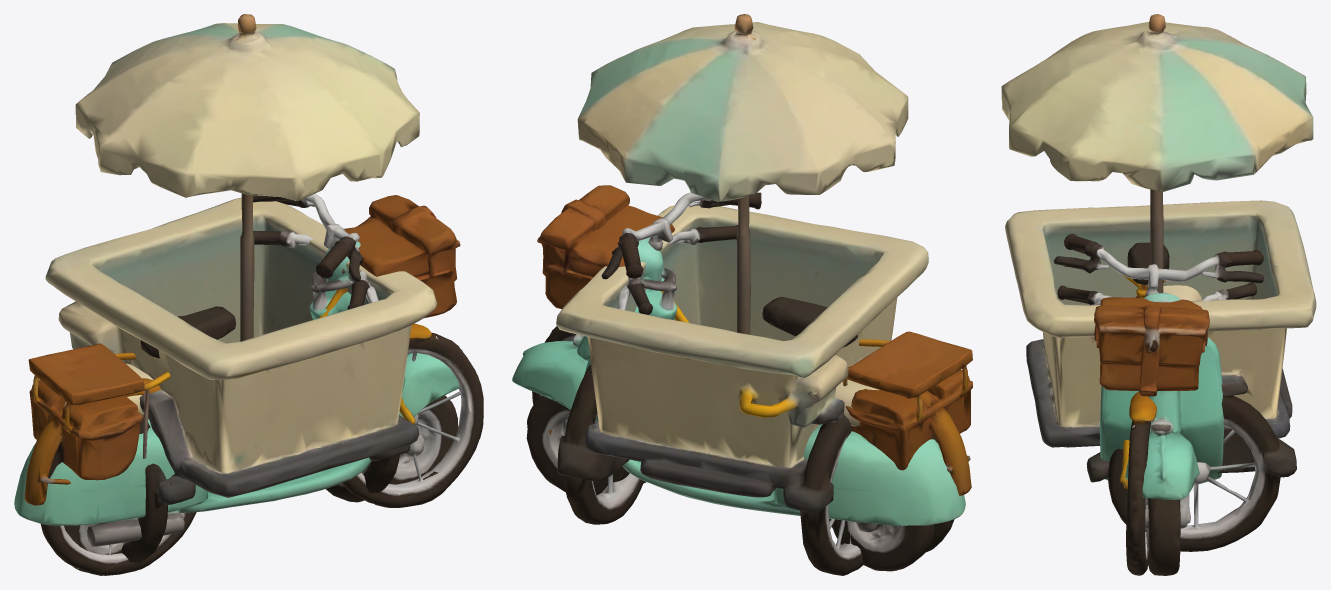
File: deuxroues.glb
3 renders of one model, left to right at view 1: azimuth 30°, elevation 25°; view 2: azimuth 150°, elevation 25°; view 3: azimuth 270°, elevation 25°, orthographic. The views are drawn at different scales.
Parts seen in each view (by area): view 1: triporteur-glaces, velo-facteur, scooter; view 2: triporteur-glaces, velo-facteur, scooter; view 3: triporteur-glaces, velo-facteur, scooter.
Part boxes in pixels (left/top/right/bottom): triporteur-glaces: left=45, top=14, right=437, bottom=562; velo-facteur: left=24, top=193, right=483, bottom=575; scooter: left=14, top=230, right=462, bottom=572; triporteur-glaces: left=556, top=14, right=928, bottom=575; velo-facteur: left=532, top=185, right=972, bottom=552; scooter: left=512, top=225, right=965, bottom=571; triporteur-glaces: left=1001, top=14, right=1316, bottom=551; velo-facteur: left=1054, top=234, right=1263, bottom=575; scooter: left=1057, top=282, right=1256, bottom=575.
Size of the model in its own units: 1.8 by 2 by 1.18.
Materials: 1 (1 with a texture image).
